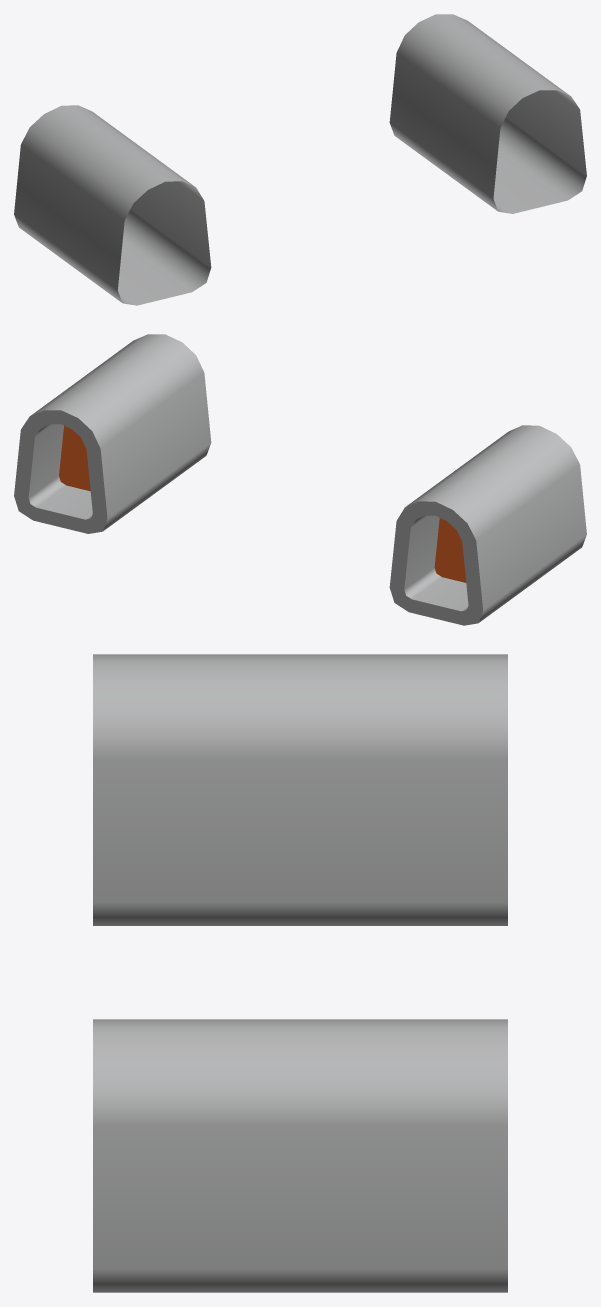
Rendered from Car_10_Pipe_Simple.fbx.
The picture shows the model from 3 angles, top to bottom: view 1: azimuth 30°, elevation 25°; view 2: azimuth 150°, elevation 25°; view 3: azimuth 270°, elevation 25°; orthographic projection. The views are drawn at different scales.
Parts seen in each view (by area): view 1: Car_10_Pipe_Simple; view 2: Car_10_Pipe_Simple; view 3: Car_10_Pipe_Simple.
Boxes of the visible parts, bbox=[...] form: Car_10_Pipe_Simple: bbox=[14, 14, 586, 305]; Car_10_Pipe_Simple: bbox=[14, 334, 586, 625]; Car_10_Pipe_Simple: bbox=[93, 654, 507, 1292].
Size of the model in its own units: 89.5 by 34.3 by 21.35.
